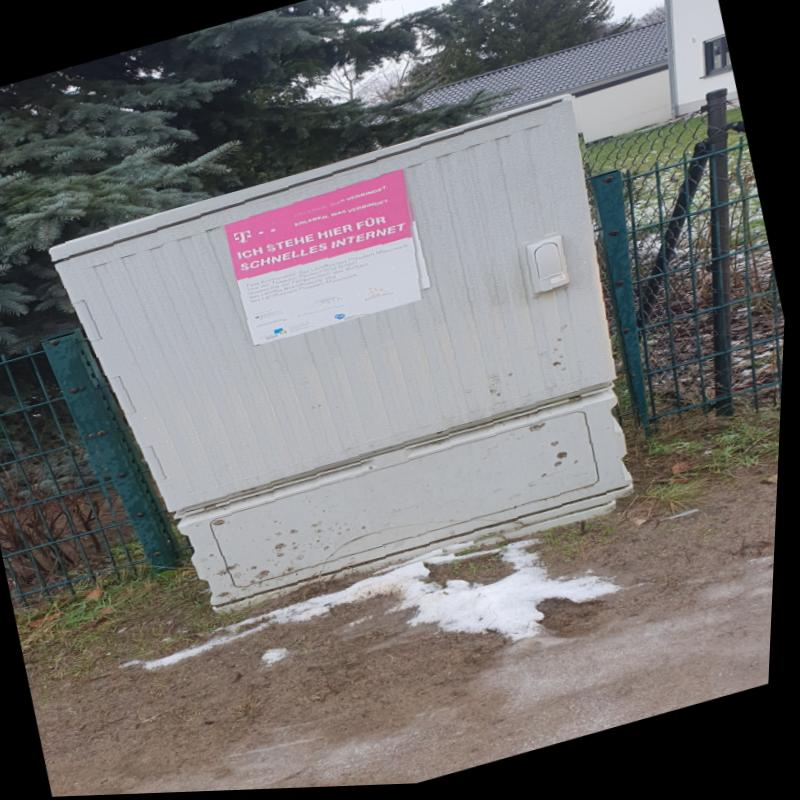NT-Gehause: (46, 99, 646, 621)
Steaker: (224, 181, 436, 351)
